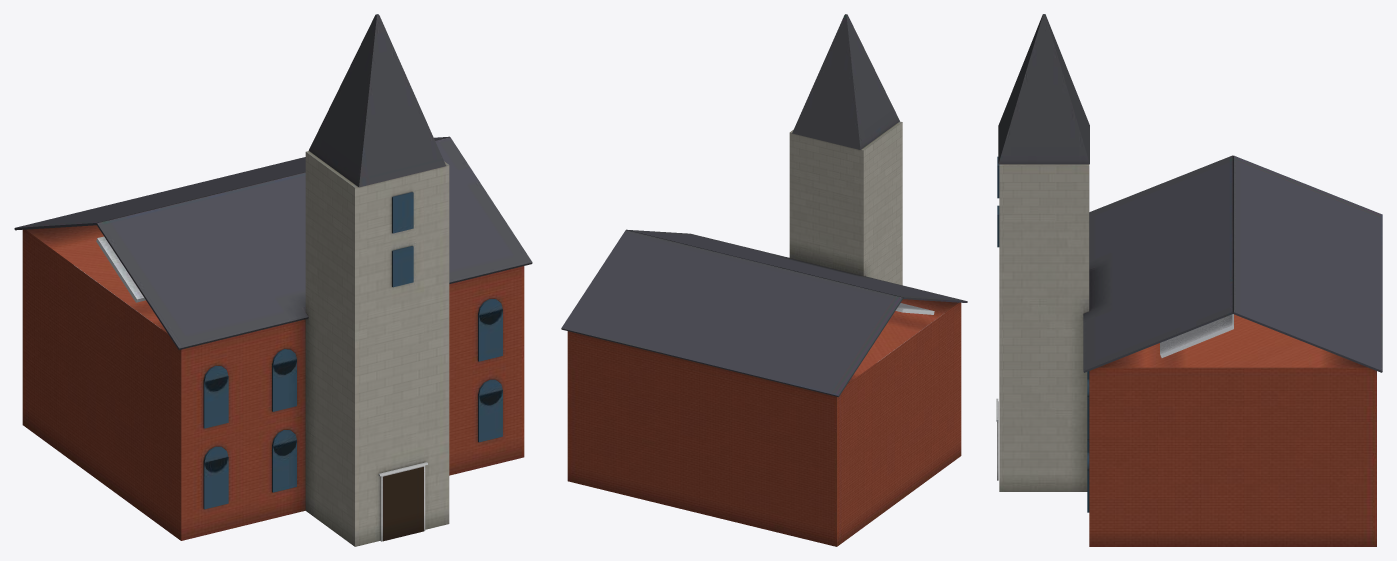
The model's file is city_hall_mht.glb.
The picture shows the model from 3 angles, left to right: view 1: azimuth 30°, elevation 25°; view 2: azimuth 150°, elevation 25°; view 3: azimuth 270°, elevation 25°; orthographic projection. The views are drawn at different scales.
Parts seen in each view (by area): view 1: city_hall_mht; view 2: city_hall_mht; view 3: city_hall_mht.
Boxes of the visible parts, box(x1,y1,x2,y2) form: city_hall_mht: box(14, 14, 532, 546); city_hall_mht: box(561, 14, 967, 546); city_hall_mht: box(996, 14, 1382, 546).
Bounding box in the file's own units: 20.6 × 28 × 21.49.
Materials: 1 (1 with a texture image).
